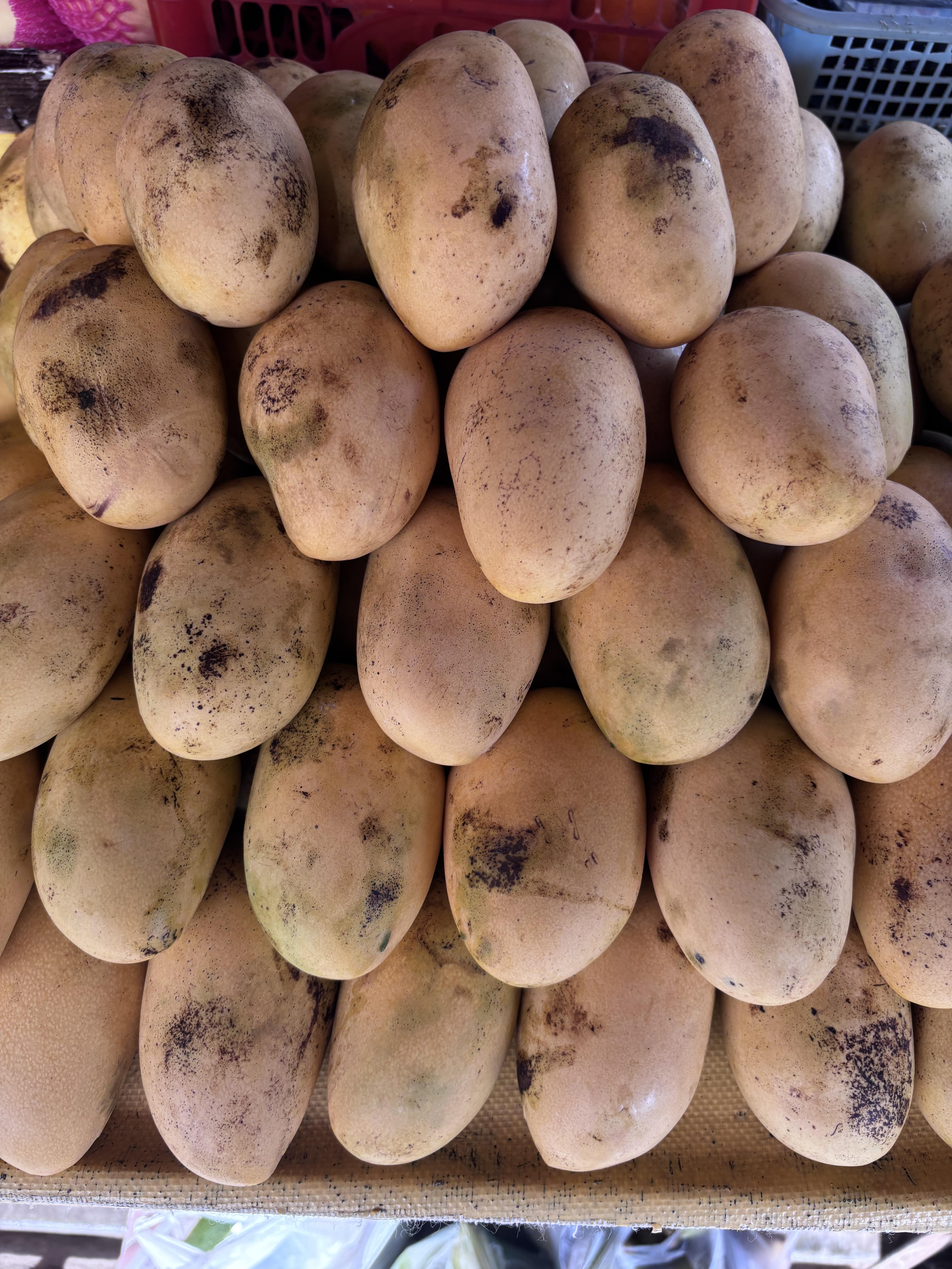mango: (352, 31, 556, 351), (444, 307, 646, 603), (238, 281, 439, 561), (116, 58, 318, 327), (670, 306, 886, 546), (550, 73, 735, 348)
occluded: (140, 834, 338, 1185), (553, 463, 770, 764), (244, 664, 445, 980), (648, 705, 855, 1007), (32, 663, 240, 963), (13, 244, 228, 529), (443, 688, 645, 987), (132, 477, 338, 760), (517, 879, 714, 1171), (328, 870, 521, 1165), (768, 481, 952, 783), (356, 487, 550, 766), (722, 920, 914, 1166), (0, 478, 151, 760), (647, 10, 805, 275), (0, 888, 145, 1175), (727, 252, 913, 475), (851, 738, 952, 1008), (851, 739, 952, 1008), (55, 45, 182, 245), (838, 120, 952, 303), (286, 70, 383, 276), (34, 42, 120, 231), (0, 229, 94, 389), (490, 19, 589, 139), (779, 107, 844, 254), (0, 751, 41, 954), (910, 255, 952, 420), (913, 1005, 952, 1146), (0, 126, 37, 270), (0, 433, 52, 500), (244, 56, 318, 100)
